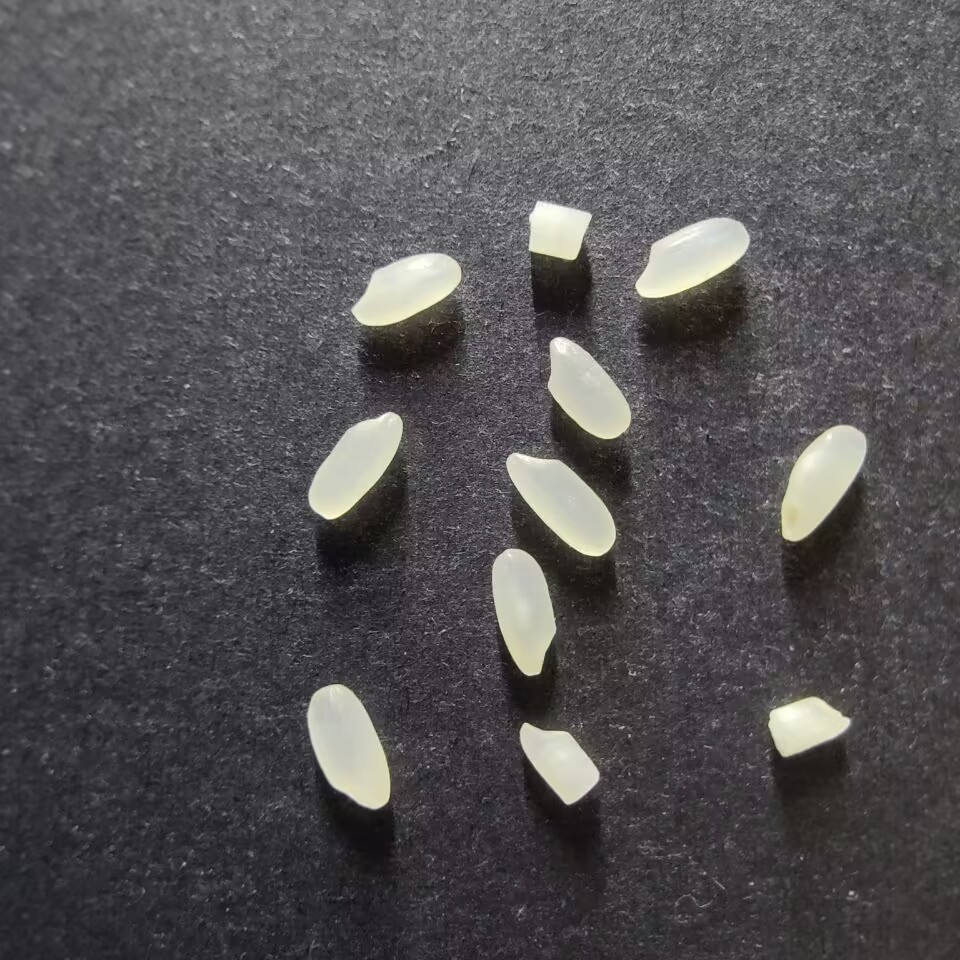broken: (518, 720, 600, 806), (766, 696, 852, 757), (527, 200, 593, 261)
rice: (503, 451, 617, 557), (306, 683, 391, 810), (307, 411, 403, 519), (779, 425, 867, 542), (634, 216, 750, 299), (547, 336, 631, 439), (490, 548, 557, 676), (350, 252, 461, 326)
